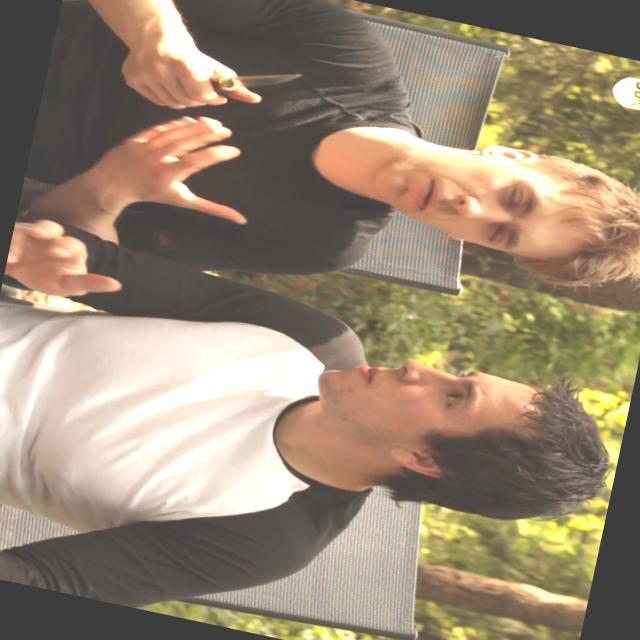knife: (160, 38, 319, 136)
